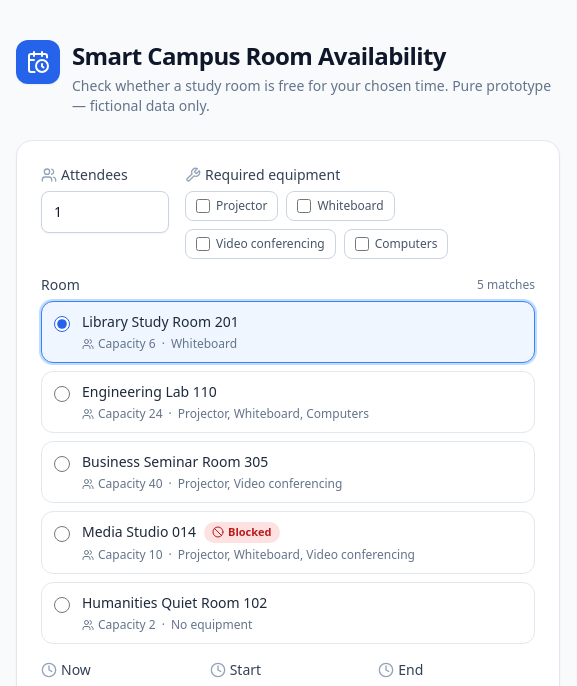
End-to-end: filters -> pick a room -> check -> result › 8 people needing video conferencing: picking the blocked studio gives Unavailable
The image size is (577, 686).
Step 1. Replace the text in the number field labelled "Attendees" with "8" → (105, 212), box [41,191,169,233]
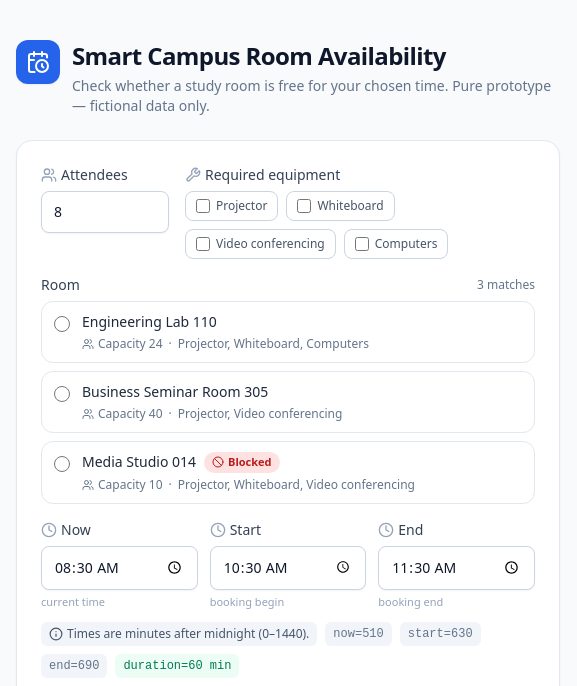
Step 2. Click the checkbox labelled "Video conferencing" → (203, 244), box [196,237,210,251]
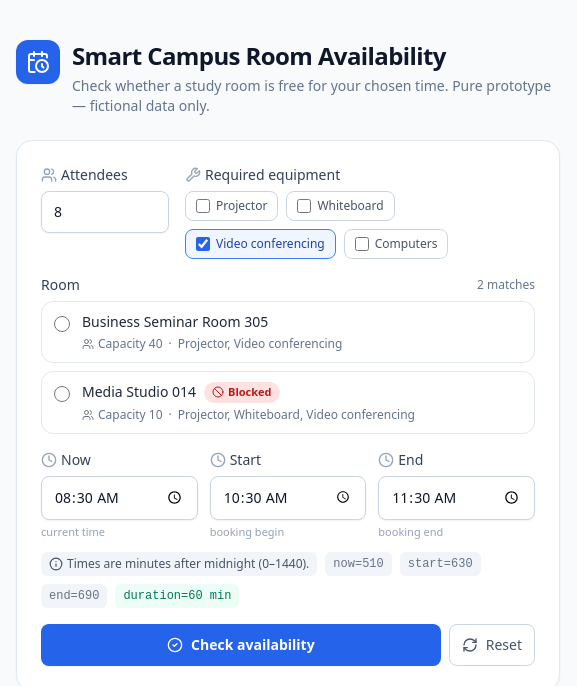
Expected: the text "Blocked" is shown, [204,382,280,402]
Step 3. Click the 2nd radio button → (62, 394), box [54,386,70,402]
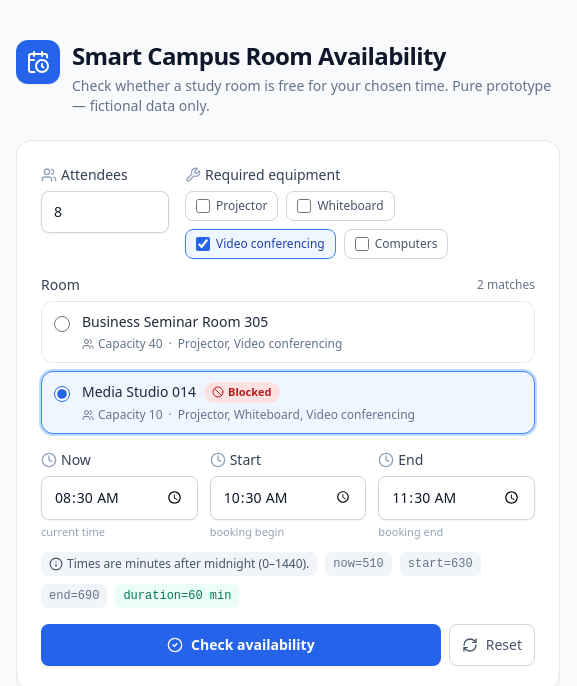
Step 4. Replace the text in the time field labelled "Now" with "08:00" → (119, 498), box [41,476,198,520]
Step 5. Replace the text in the time field labelled "Start" with "13:00" → (288, 498), box [210,476,366,520]
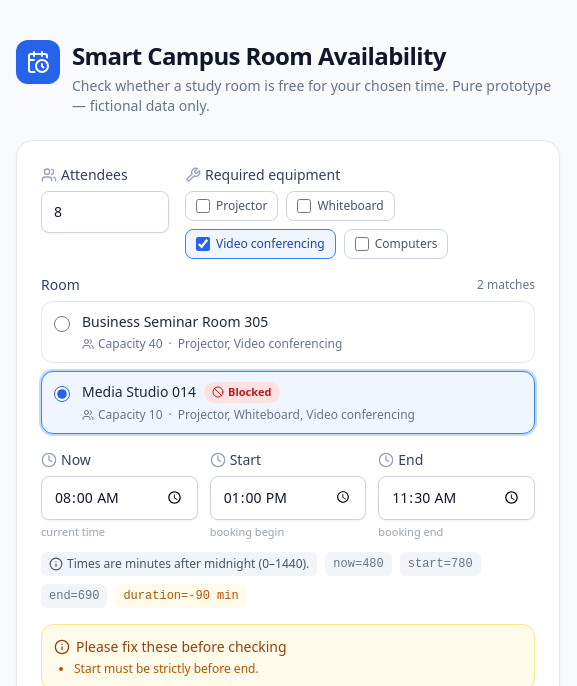
Step 6. Replace the text in the time field labelled "End" with "14:00" → (457, 498), box [378,476,535,520]
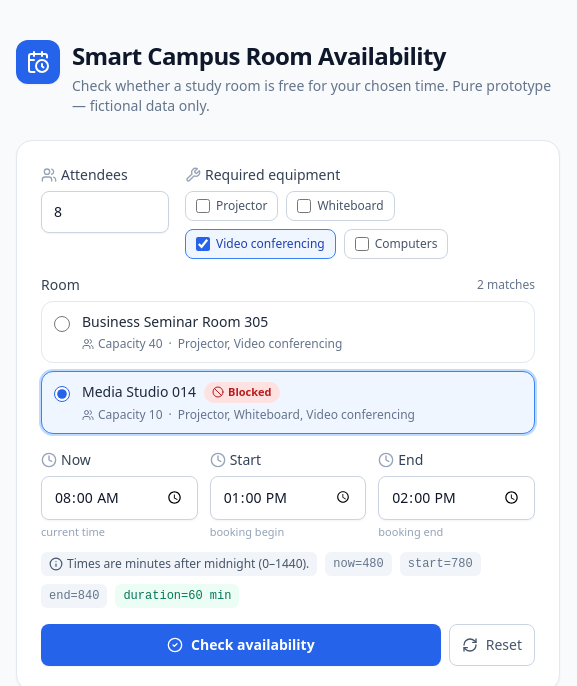
Step 7. Click the button "Check availability" → (241, 645), box [41,624,441,666]
(page scrolled)
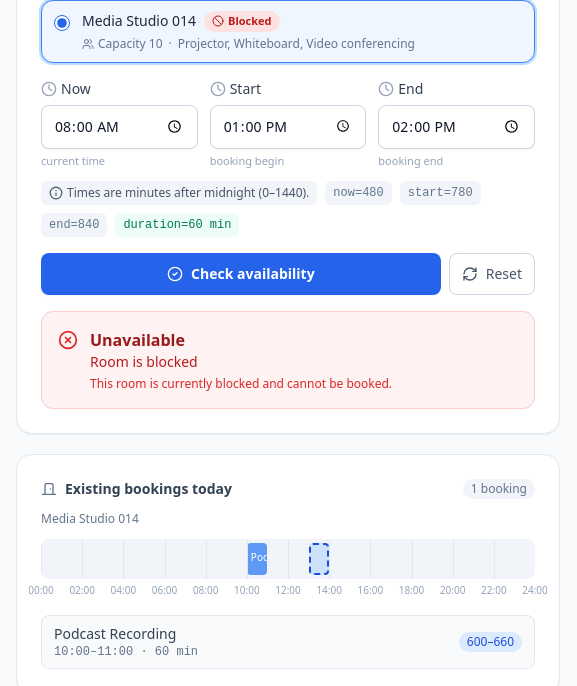
Now the message shows "Unavailable", box [90,329,185,351]
Now the message shows "blocked", box [90,352,198,371]
